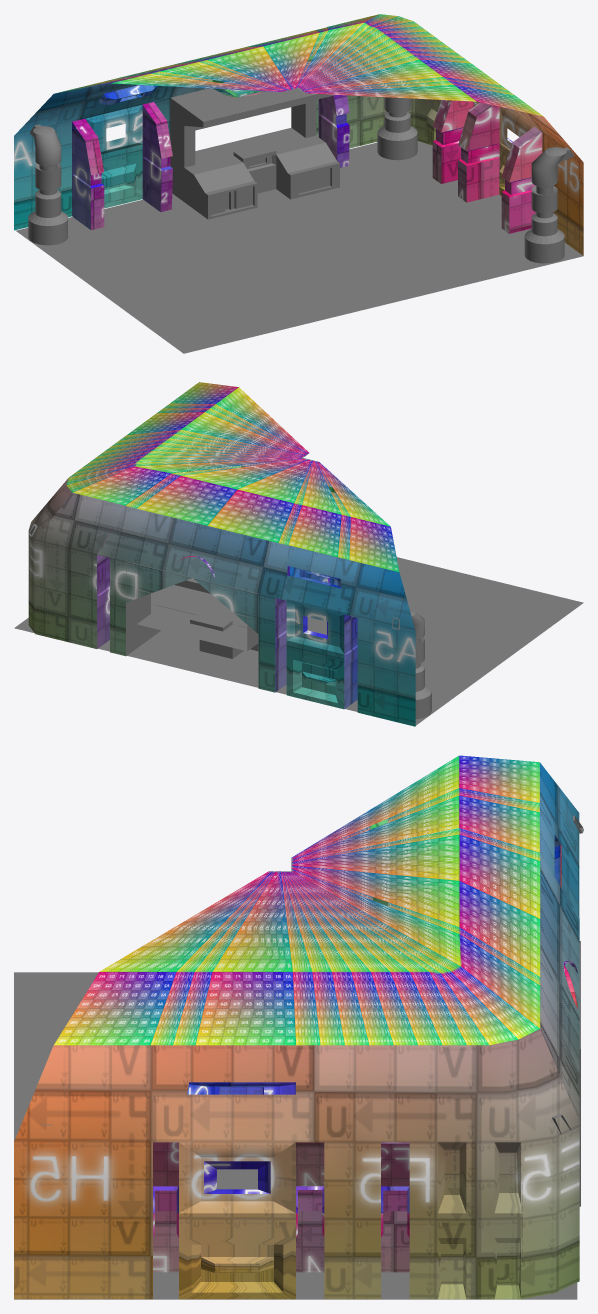
Rendered from SetForTexture.obj.
3 views of the same model, one above another, from view 1: azimuth 30°, elevation 25°; view 2: azimuth 150°, elevation 25°; view 3: azimuth 270°, elevation 25° (orthographic). The views are drawn at different scales.
Visible parts, largest first — view 1: pPlane2, pPlane1 group1, group1 pCube1, pasted__pasted__pasted__pCylinder1 pasted__pasted__group pasted_, pasted__pCylinder1 group, pasted__pasted__pCylinder1 pasted__group group5; view 2: pPlane1 group1, pPlane2, group1 pCube1, pasted__pCylinder1 group; view 3: pPlane1 group1, pPlane2.
Part boxes in pixels (bbox=[...]): pPlane2: bbox=[16, 141, 583, 353]; pPlane1 group1: bbox=[14, 14, 583, 255]; group1 pCube1: bbox=[170, 88, 339, 219]; pasted__pasted__pasted__pCylinder1 pasted__pasted__group pasted_: bbox=[524, 147, 574, 263]; pasted__pCylinder1 group: bbox=[28, 124, 67, 245]; pasted__pasted__pCylinder1 pasted__group group5: bbox=[377, 97, 417, 160]; pPlane1 group1: bbox=[28, 382, 415, 726]; pPlane2: bbox=[14, 557, 583, 725]; group1 pCube1: bbox=[126, 561, 258, 688]; pasted__pCylinder1 group: bbox=[391, 609, 431, 719]; pPlane1 group1: bbox=[14, 755, 579, 1299]; pPlane2: bbox=[14, 972, 577, 1299].
Bounding box in the file's own units: 1587 × 602 × 1165.
Materials: 5 (2 with a texture image).
